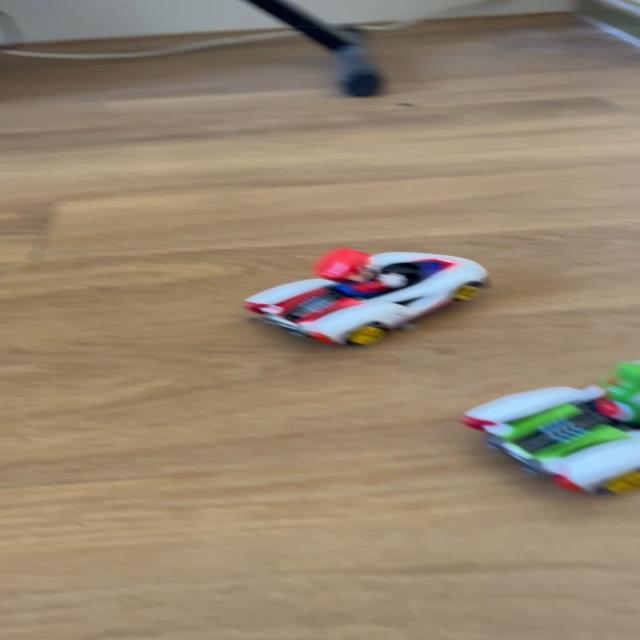mario: (218, 233, 506, 349)
yoshi: (451, 388, 640, 503)
